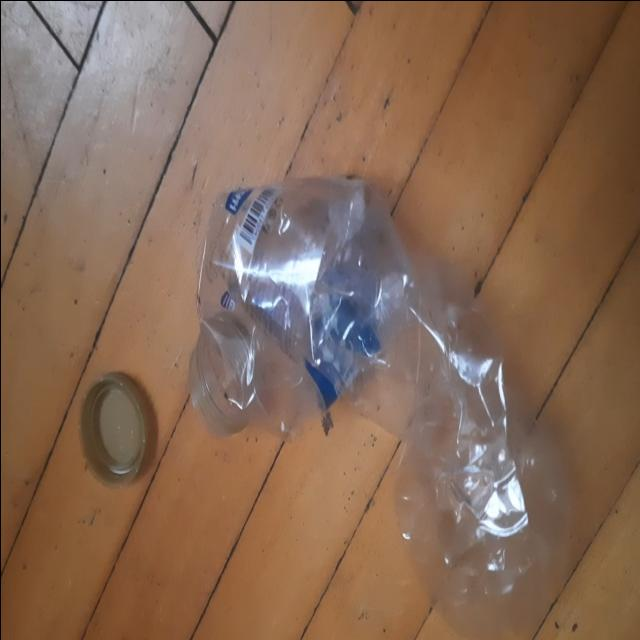Plastic: (190, 175, 567, 638)
